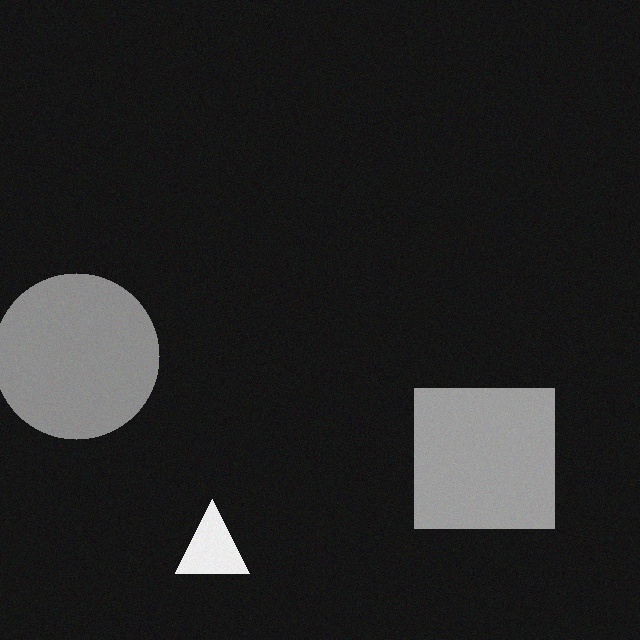circle: (2, 285, 168, 451)
square: (423, 400, 563, 540)
triangle: (184, 511, 258, 585)
